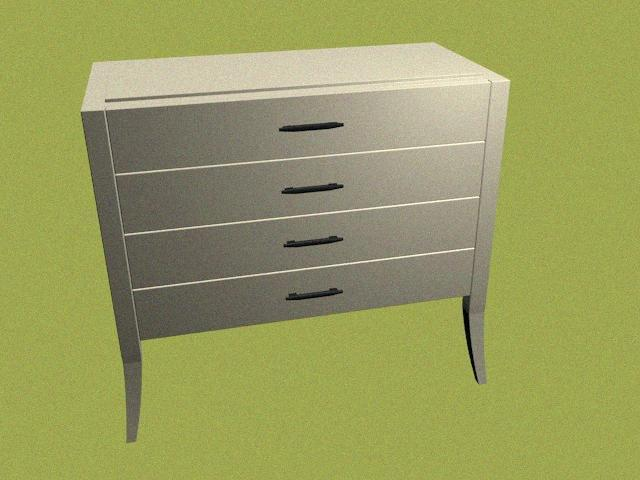cabinet_door: (110, 97, 488, 159), (120, 158, 482, 216), (128, 216, 478, 268), (136, 268, 472, 317)
handle: (274, 118, 342, 137), (278, 180, 340, 198), (281, 234, 343, 252), (283, 286, 342, 304)
